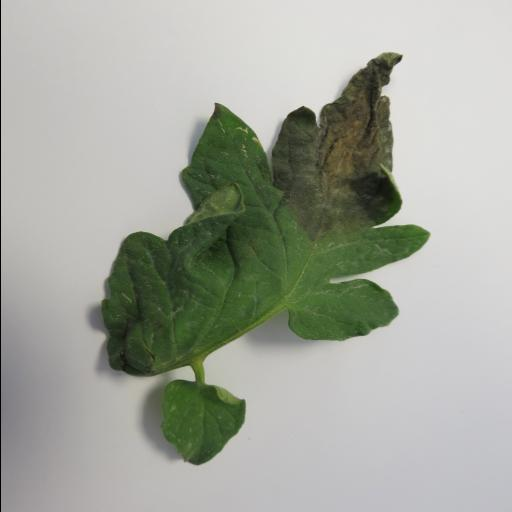Late Blight: (90, 40, 436, 382)
